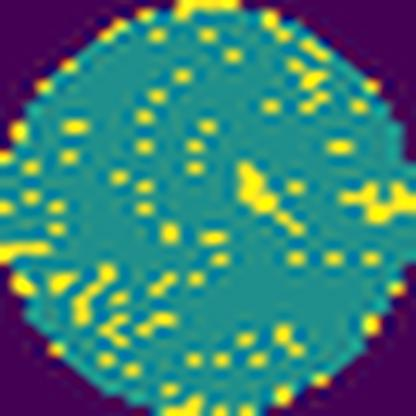Loc: (230, 157, 310, 238), (336, 177, 416, 215)
